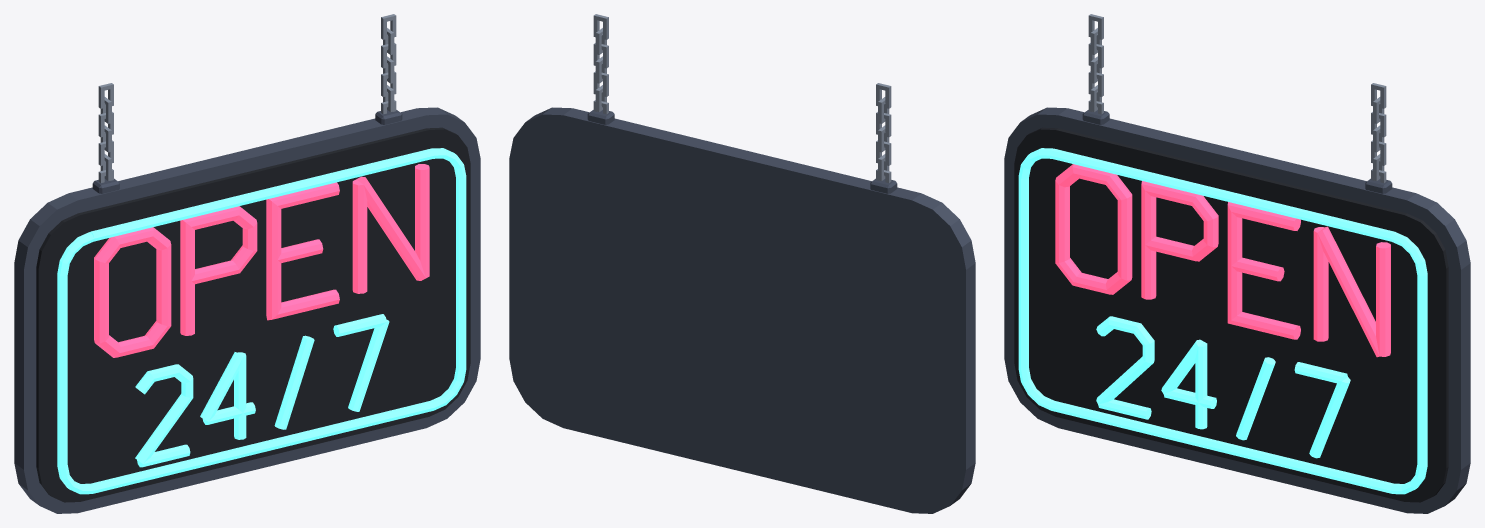
The model's file is Sign_Open247.fbx.
The picture shows the model from 3 angles, left to right: view 1: azimuth 30°, elevation 25°; view 2: azimuth 150°, elevation 25°; view 3: azimuth 330°, elevation 25°; orthographic projection.
Parts seen in each view (by area): view 1: Sign_Open247, Neon_Cyan, Neon_Red; view 2: Sign_Open247; view 3: Sign_Open247, Neon_Cyan, Neon_Red.
Boxes of the visible parts, <box> form: Sign_Open247: <box>14,14,480,513</box>; Neon_Cyan: <box>57,148,466,494</box>; Neon_Red: <box>94,164,429,357</box>; Sign_Open247: <box>509,14,975,513</box>; Sign_Open247: <box>1004,14,1470,513</box>; Neon_Cyan: <box>1018,148,1427,494</box>; Neon_Red: <box>1055,164,1390,357</box>.
Size of the model in its own units: 11 by 9.58 by 0.96.
3 materials, 1 textured.
